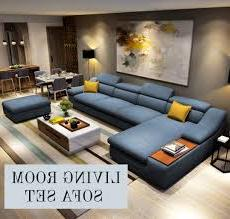chair: (0, 96, 55, 123), (47, 78, 69, 102), (17, 66, 30, 93), (34, 69, 47, 96), (0, 69, 12, 97), (49, 65, 64, 87), (72, 75, 84, 88)
light: (74, 48, 99, 75), (0, 13, 8, 49), (17, 20, 26, 51), (10, 15, 15, 50), (224, 65, 230, 89)
sofa: (72, 71, 225, 202)
table: (37, 115, 95, 149), (0, 60, 39, 93), (36, 69, 81, 95), (211, 137, 230, 174)
